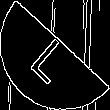L_NE: (28, 26, 82, 84)
